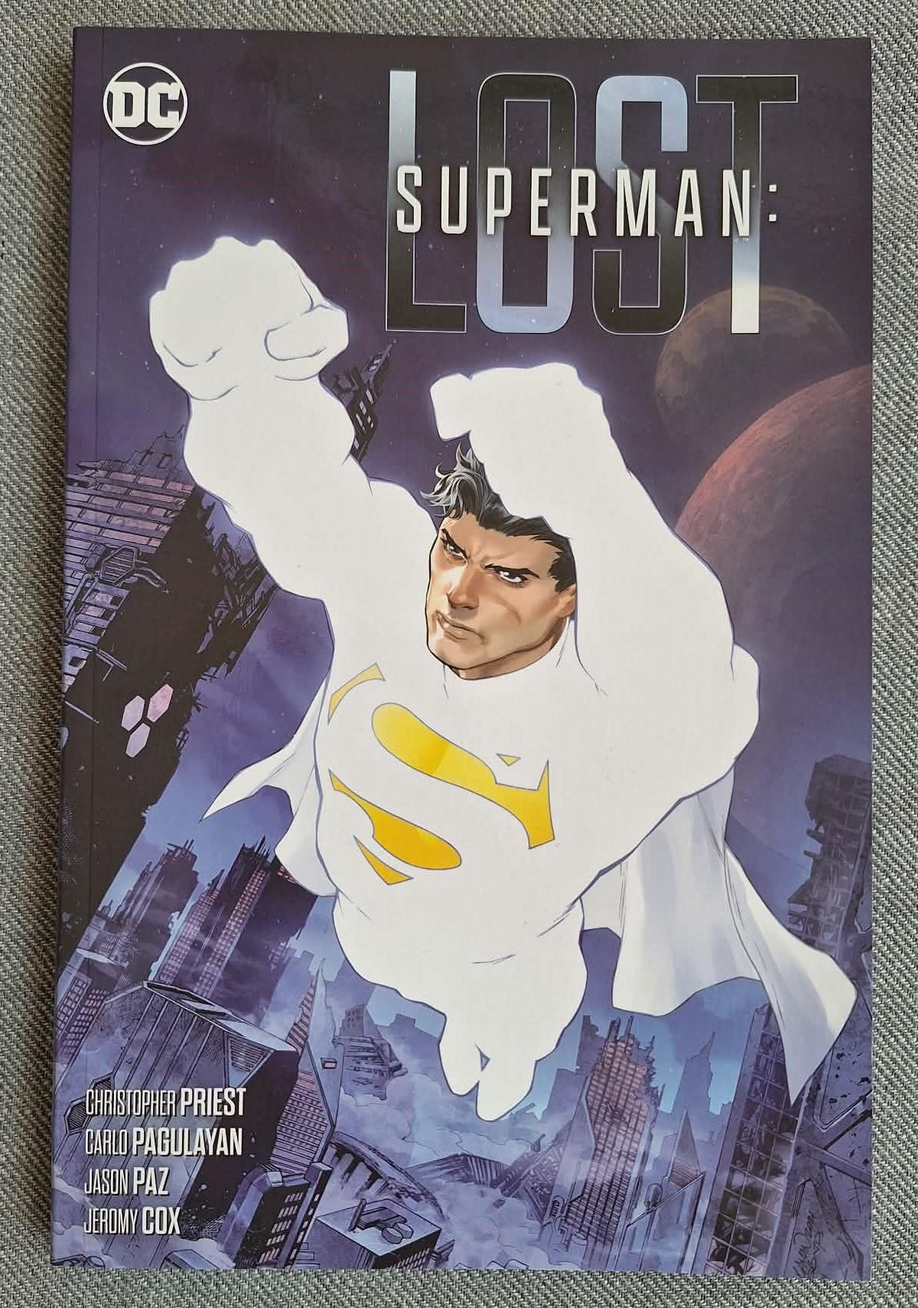comic: (51, 28, 889, 1279)
